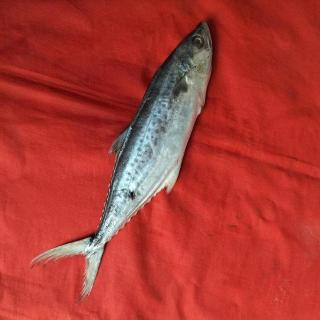Ikan: (41, 16, 221, 304)
